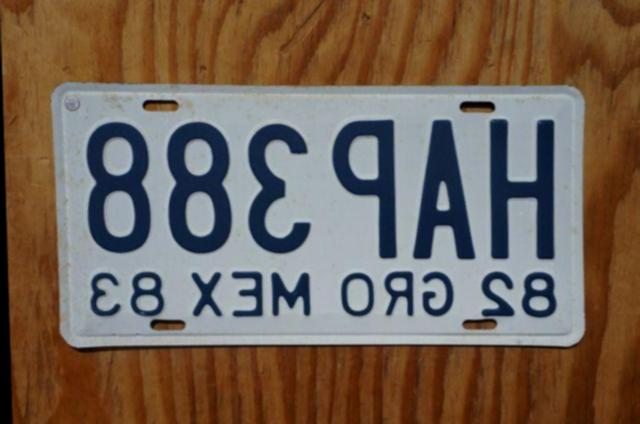License_Plate: (45, 80, 601, 359)
